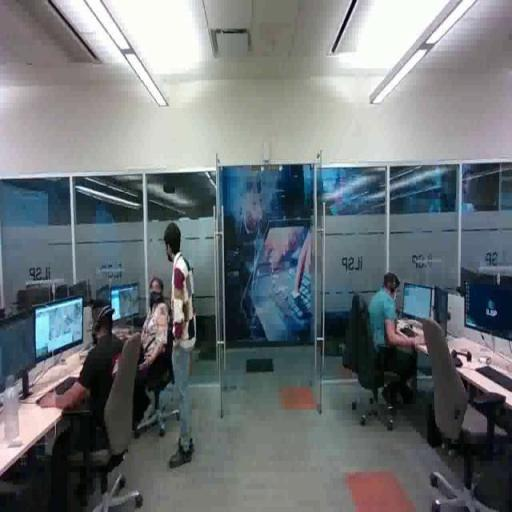person: (165, 222, 200, 470)
